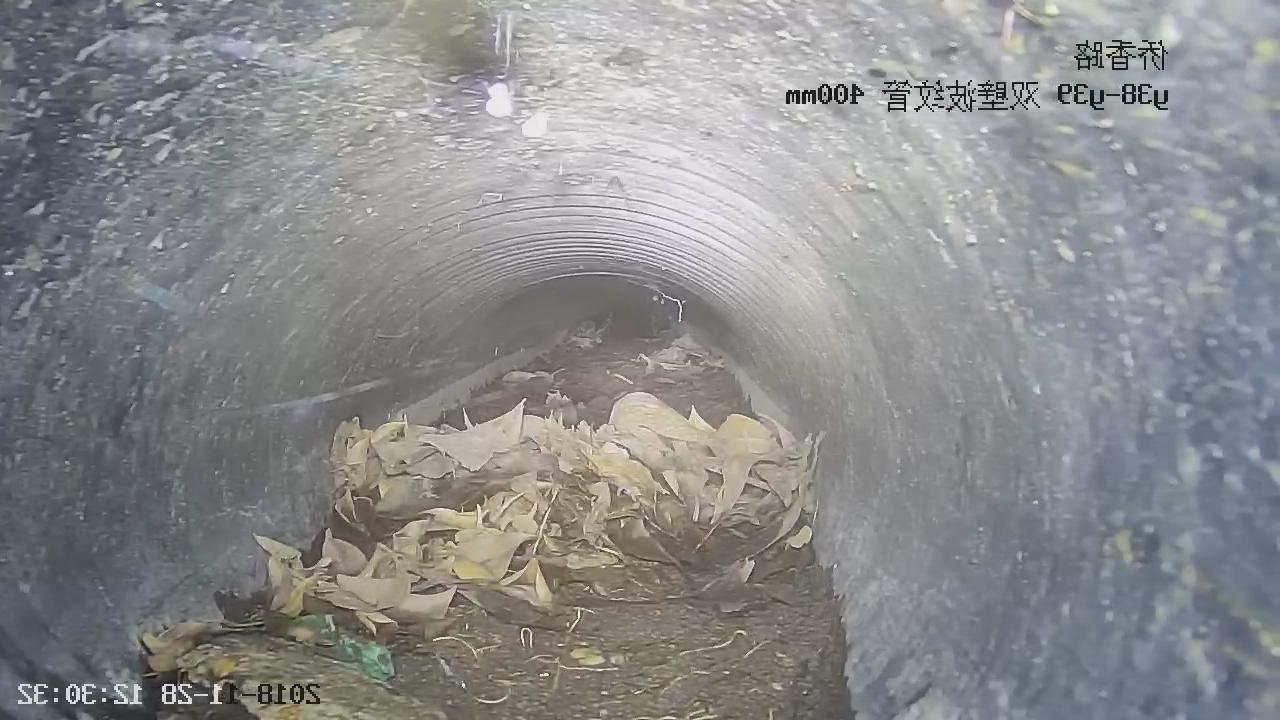CJ: (143, 321, 848, 719)
